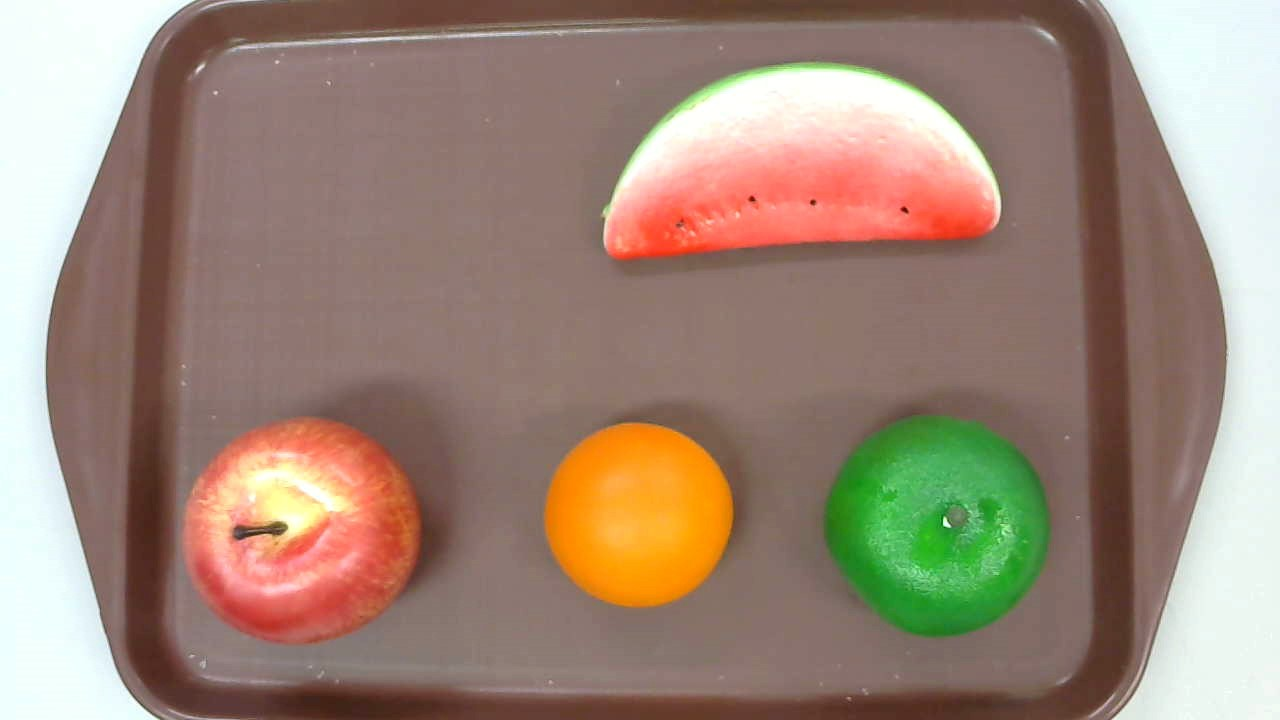bun: (544, 421, 734, 605)
green orange: (824, 415, 1049, 635)
red apple: (183, 416, 420, 645)
watermelon: (600, 60, 1001, 261)
